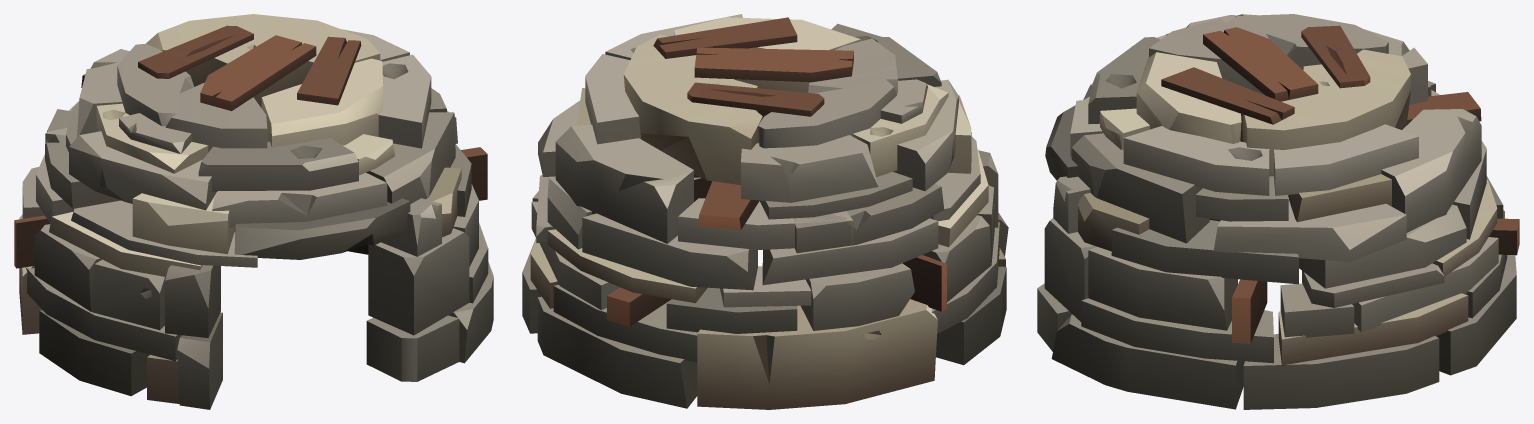
File: Hut_1D.fbx
The picture shows the model from 3 angles, left to right: view 1: azimuth 30°, elevation 25°; view 2: azimuth 150°, elevation 25°; view 3: azimuth 270°, elevation 25°; orthographic projection.
Visible parts, largest first — view 1: Hut_1D; view 2: Hut_1D; view 3: Hut_1D.
Part boxes in pixels (x1=…): Hut_1D: x1=14, y1=14, x2=493, y2=409; Hut_1D: x1=522, y1=14, x2=1008, y2=409; Hut_1D: x1=1037, y1=14, x2=1519, y2=409.
Bounding box in the file's own units: 6.04 × 3.32 × 5.88.
